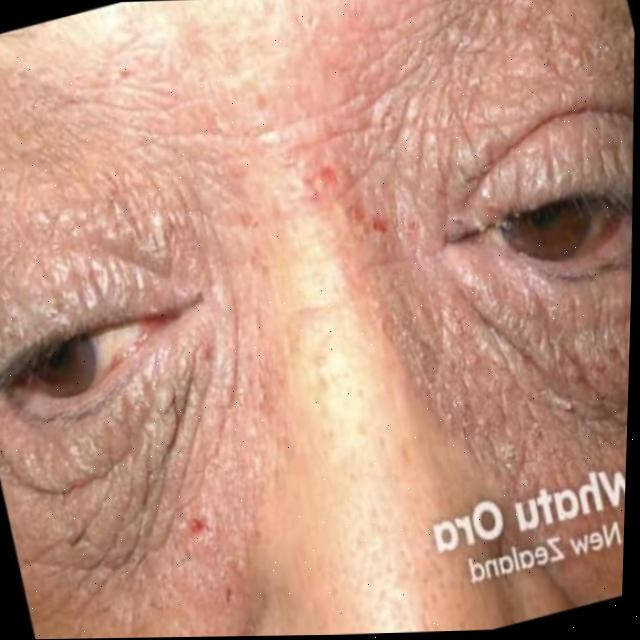Eczema: (309, 0, 640, 532), (0, 66, 252, 619)
